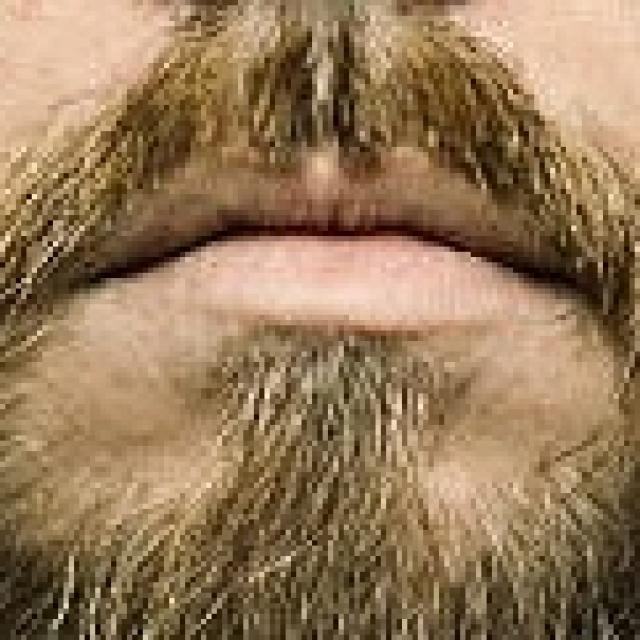closed-mouth: (58, 157, 624, 336)
